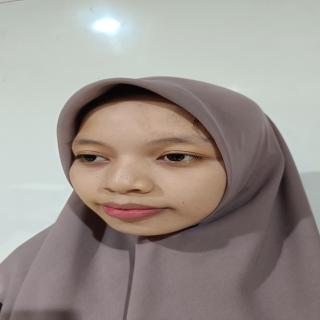Netral: (65, 93, 232, 242)
